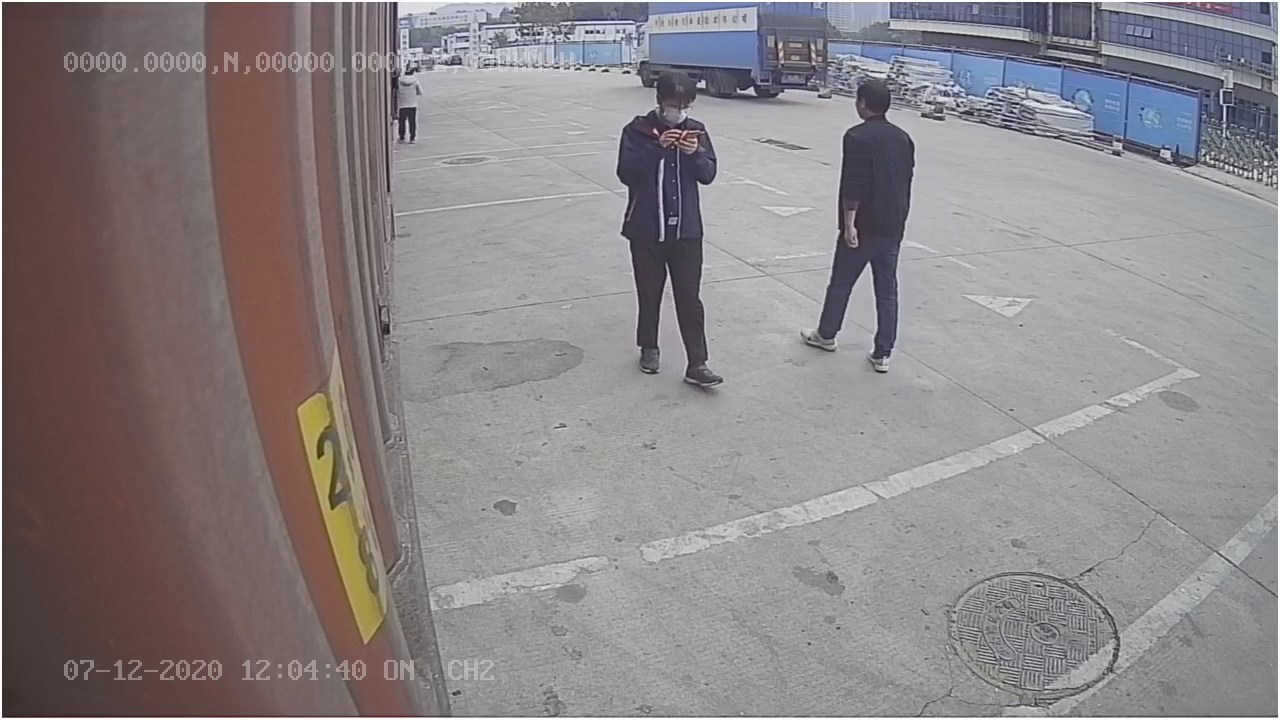person: (799, 79, 920, 373)
